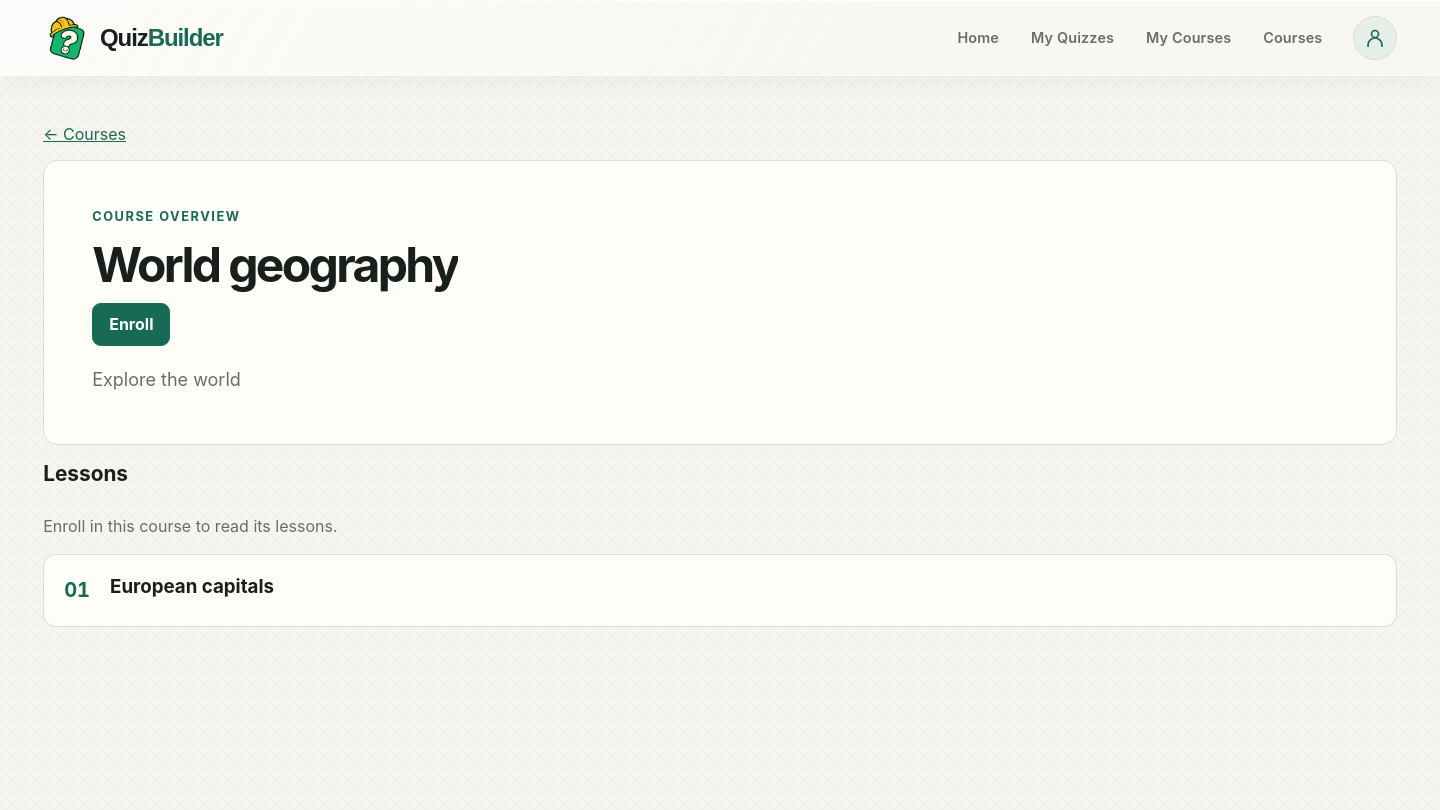
it: shows lesson titles without reading links or editing controls before enrollment
Expected: the heading "European capitals" is shown, [110,575,274,598]
Expected: the link "Start reading" is not shown
Click the button with aria-label "Enroll in World geography" at (131, 324), box [92,303,170,346]
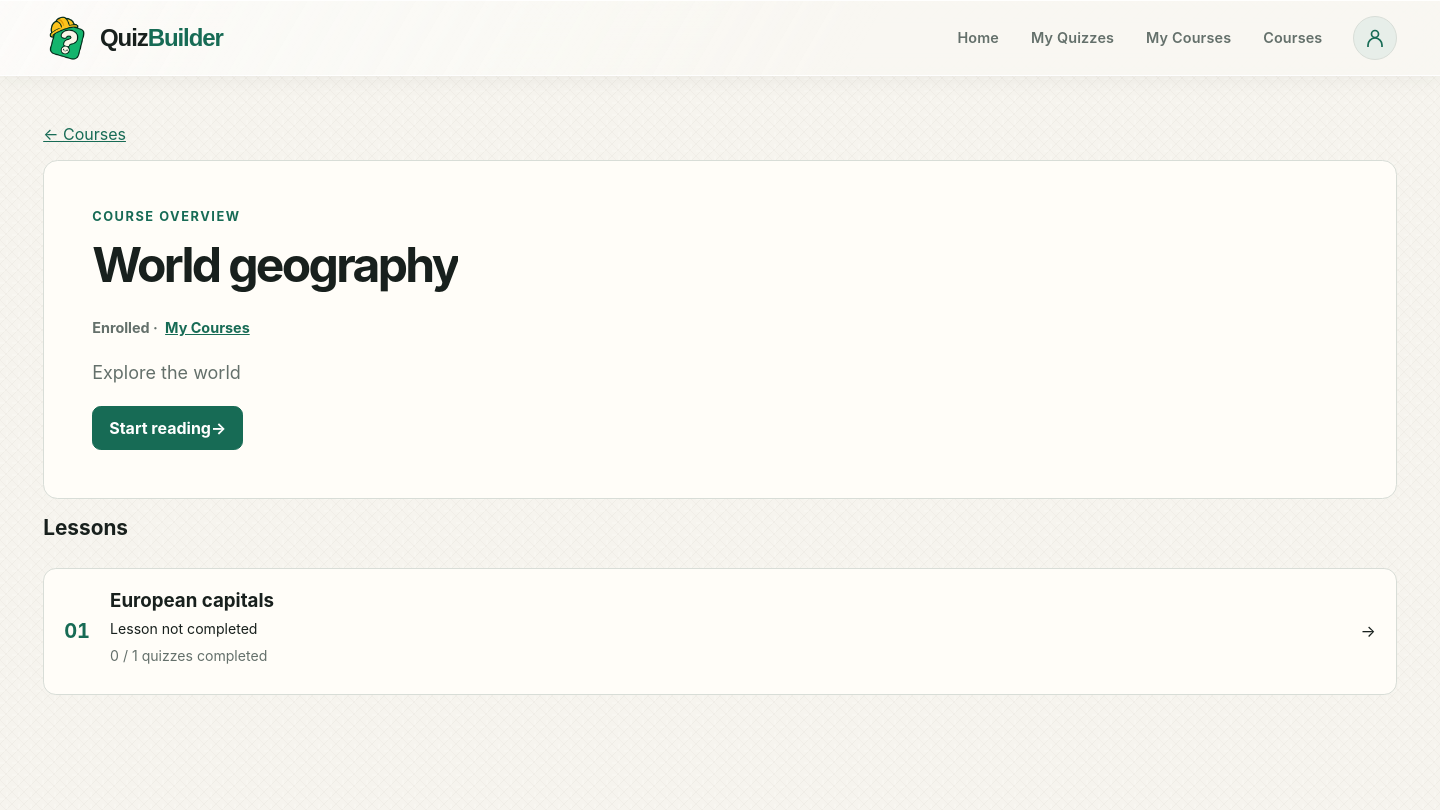
Now the link "Start reading →" is shown, box [92,406,243,450]
